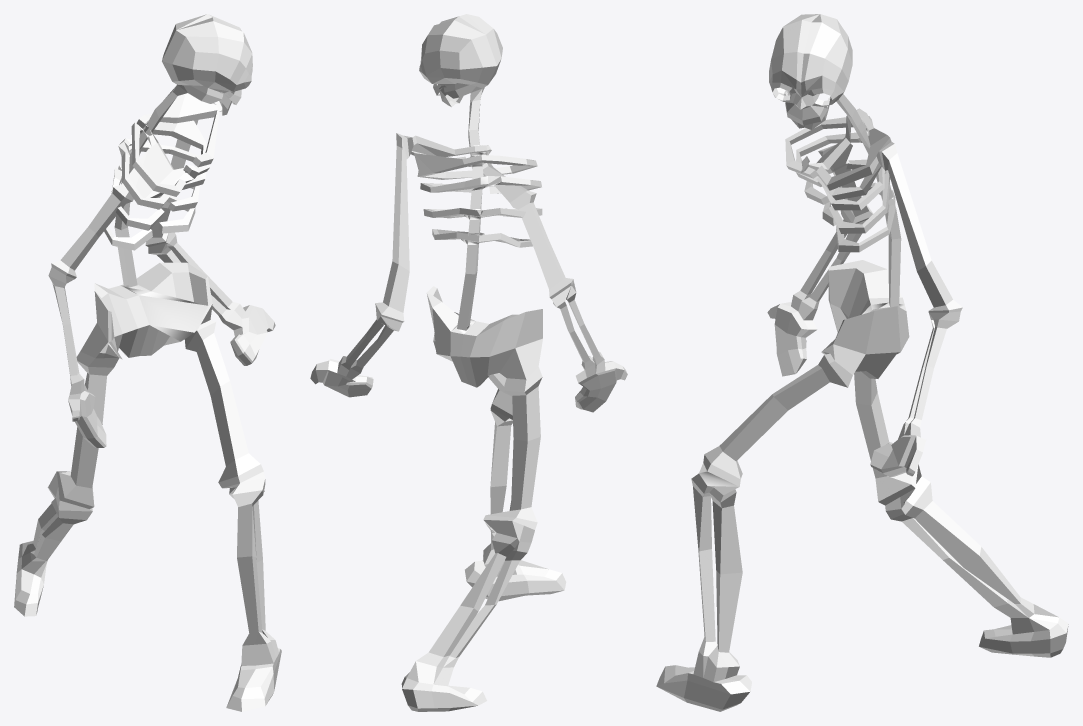
File: SkeletonIdle(41).obj
The picture shows the model from 3 angles, left to right: view 1: azimuth 30°, elevation 25°; view 2: azimuth 150°, elevation 25°; view 3: azimuth 270°, elevation 25°; orthographic projection. The views are drawn at different scales.
Visible parts, largest first — view 1: Object002; view 2: Object002; view 3: Object002.
Part boxes in pixels (x1,y1,x2,y2): Object002: (14, 14, 281, 711); Object002: (310, 14, 627, 711); Object002: (656, 14, 1068, 711).
Size of the model in its own units: 486 by 1110 by 610.
